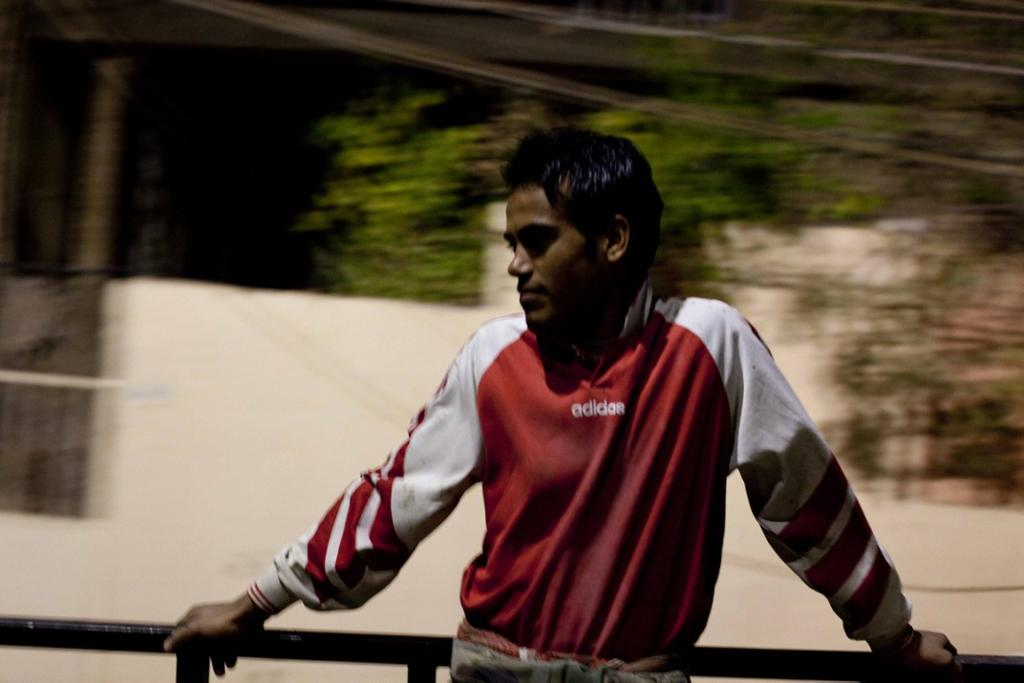face: (510, 176, 612, 320)
